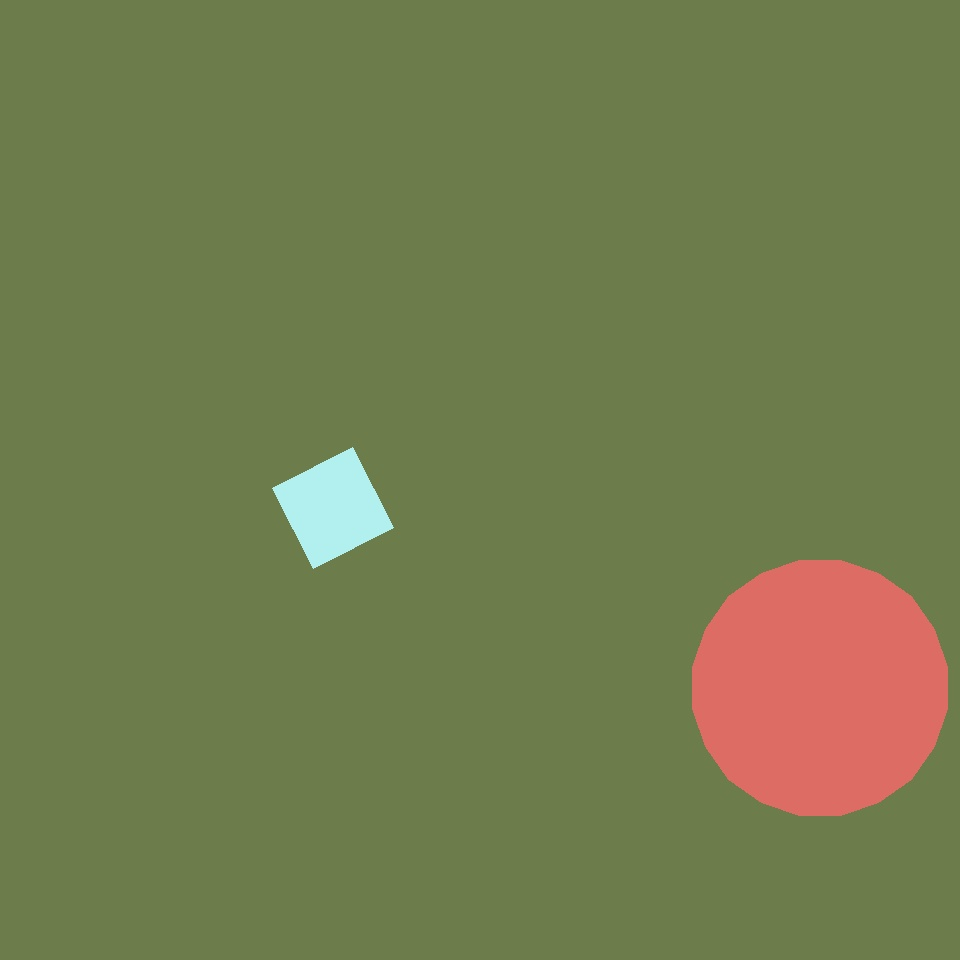circle: (344, 616, 559, 843)
square: (193, 176, 456, 439), (272, 448, 394, 568)
triangle: (692, 560, 948, 816), (721, 224, 861, 364)
